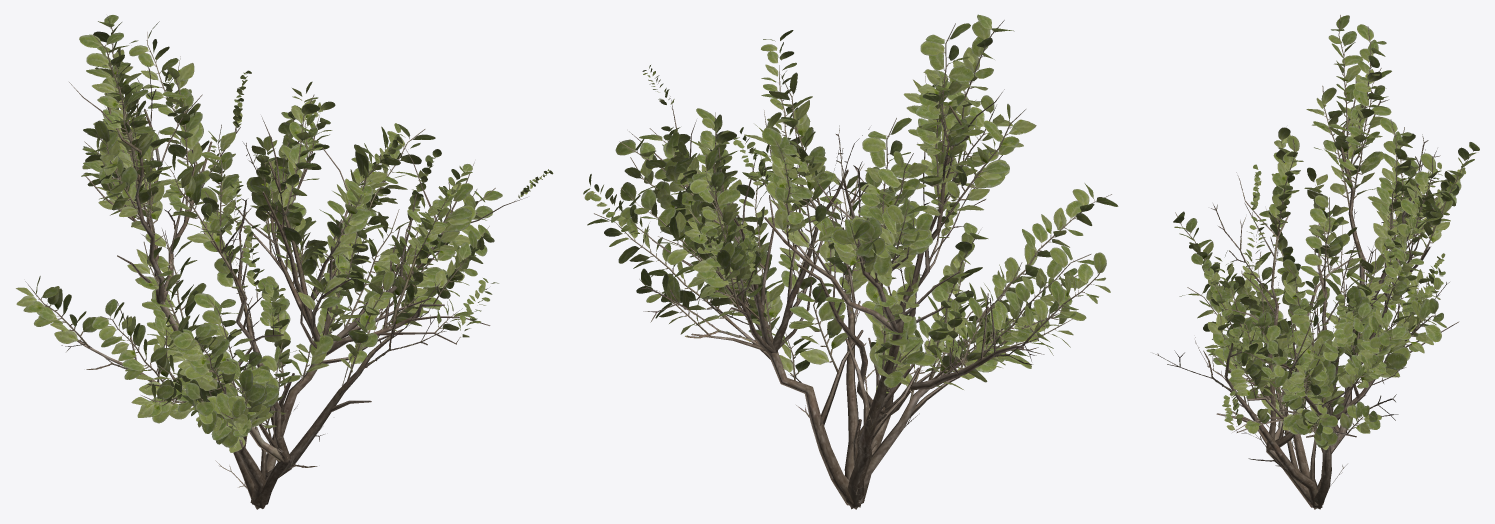
The model's file is bush.glb.
The picture shows the model from 3 angles, left to right: view 1: azimuth 30°, elevation 25°; view 2: azimuth 150°, elevation 25°; view 3: azimuth 270°, elevation 25°; orthographic projection. The views are drawn at different scales.
Parts seen in each view (by area): view 1: searsia_lucida_e_LOD0; view 2: searsia_lucida_e_LOD0; view 3: searsia_lucida_e_LOD0.
Boxes of the visible parts, <box> form: searsia_lucida_e_LOD0: <box>16,15,553,509</box>; searsia_lucida_e_LOD0: <box>583,14,1118,509</box>; searsia_lucida_e_LOD0: <box>1153,15,1479,509</box>.
Size of the model in its own units: 1.03 by 1.02 by 0.7156.
Materials: 2 (2 with a texture image).
